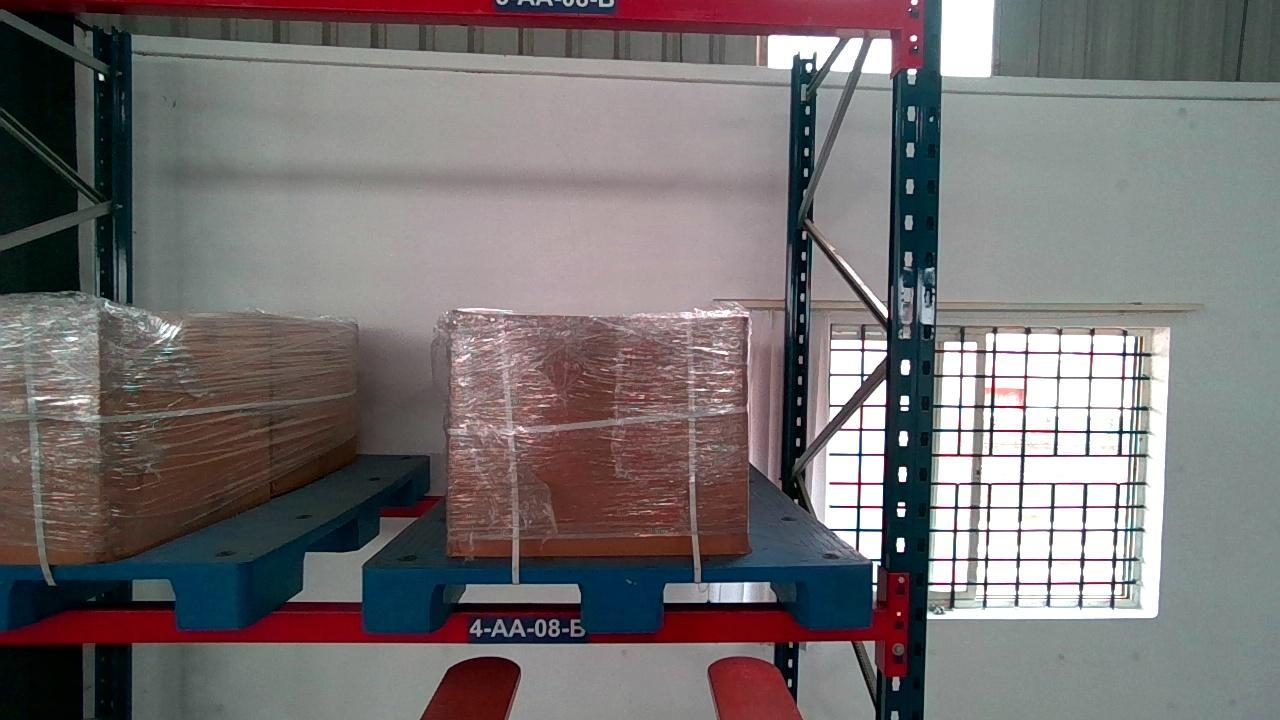h_rack: (1, 609, 885, 644)
small_pallet: (364, 565, 870, 633), (3, 564, 243, 628)
